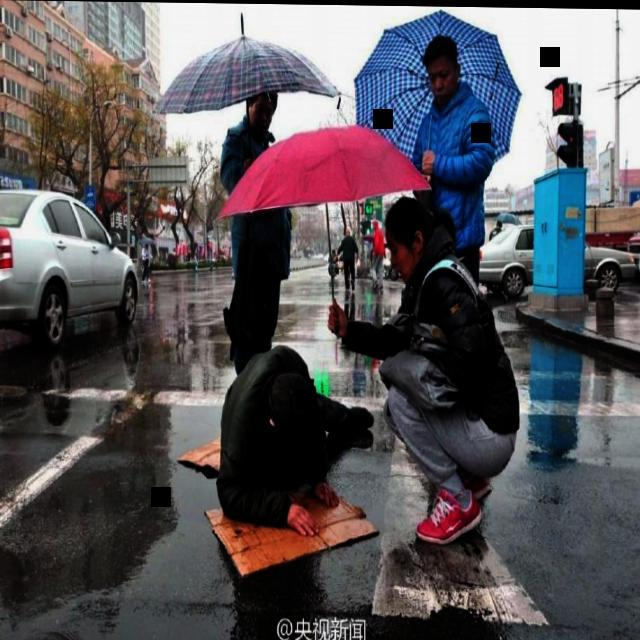Fall-Detected: (204, 334, 380, 546)
